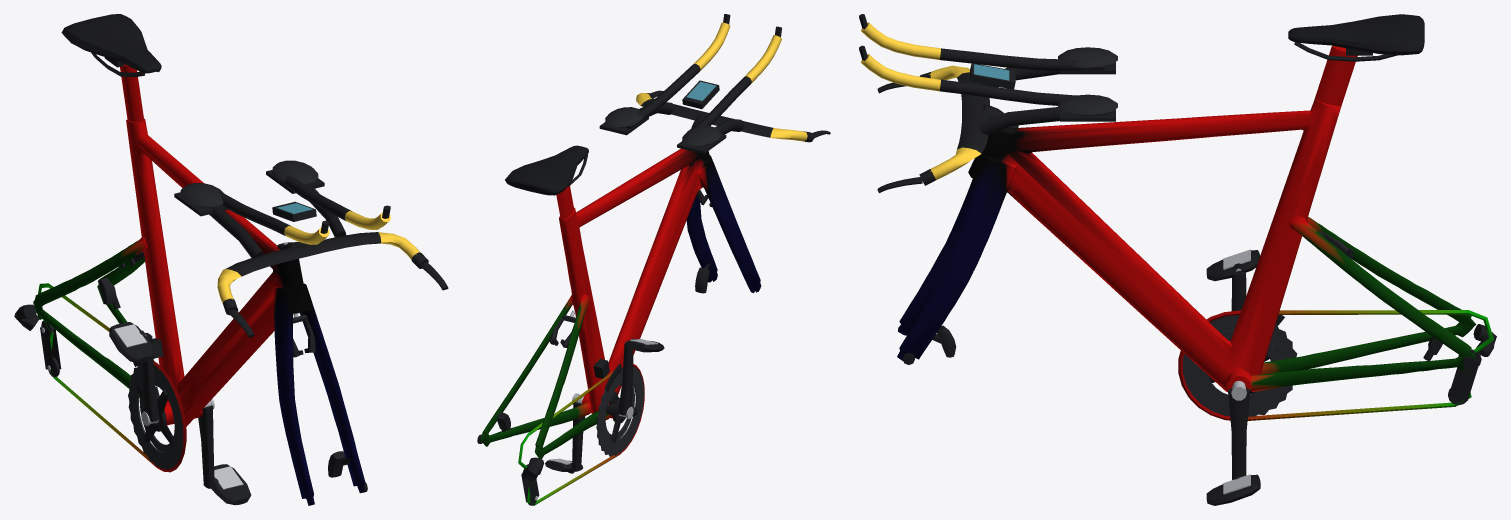
3 views of the same model, side by side, from view 1: azimuth 30°, elevation 25°; view 2: azimuth 150°, elevation 25°; view 3: azimuth 270°, elevation 25° (orthographic). The views are drawn at different scales.
Parts seen in each view (by area): view 1: frame, cockpit, crankset, saddle, opt_derailleur, pedal_R, pedal_L, opt_brakes_disc, opt_brakes_rim; view 2: frame, cockpit, crankset, saddle, opt_derailleur, opt_brakes_disc, opt_brakes_rim, pedal_R; view 3: frame, cockpit, crankset, saddle, opt_derailleur, pedal_L, pedal_R, opt_brakes_disc.
Boxes of the visible parts, left/top/right/bottom form: frame: left=33, top=64, right=365, bottom=505; cockpit: left=174, top=160, right=448, bottom=337; crankset: left=128, top=332, right=214, bottom=488; saddle: left=61, top=14, right=161, bottom=77; opt_derailleur: left=14, top=304, right=163, bottom=377; pedal_R: left=109, top=322, right=154, bottom=362; pedal_L: left=211, top=464, right=251, bottom=505; opt_brakes_disc: left=98, top=277, right=367, bottom=491; opt_brakes_rim: left=118, top=251, right=315, bottom=357; frame: left=481, top=148, right=761, bottom=505; cockpit: left=599, top=14, right=830, bottom=153; crankset: left=572, top=340, right=644, bottom=471; saddle: left=505, top=145, right=588, bottom=195; opt_derailleur: left=521, top=359, right=621, bottom=505; opt_brakes_disc: left=477, top=262, right=710, bottom=443; opt_brakes_rim: left=549, top=190, right=711, bottom=347; pedal_R: left=626, top=338, right=664, bottom=352; frame: left=897, top=45, right=1493, bottom=420; cockpit: left=859, top=14, right=1117, bottom=192; crankset: left=1183, top=272, right=1297, bottom=479; saddle: left=1288, top=14, right=1424, bottom=61; opt_derailleur: left=1276, top=315, right=1496, bottom=405; pedal_L: left=1206, top=474, right=1260, bottom=505; pedal_R: left=1206, top=249, right=1260, bottom=281; opt_brakes_disc: left=902, top=325, right=1474, bottom=368.
Bounding box in the file's own units: 0.4423 × 0.8869 × 1.14.
